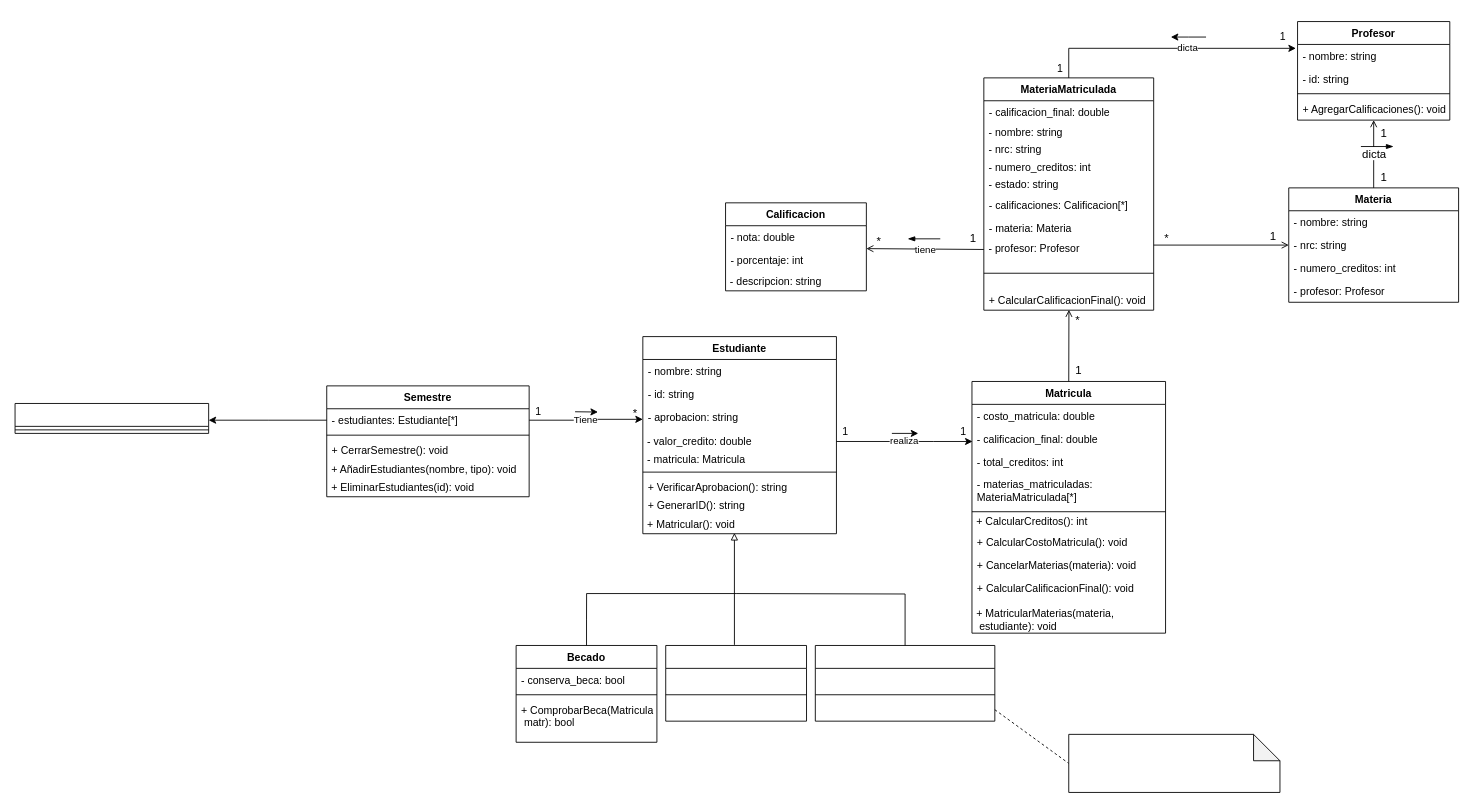
Image size: 1475x808. Some labels were removed from this diagram. Each missing label, with the centre of its shape:
"Intercambio" belongs at [904,683].
"IReporte" belongs at [111,418].
"Override VerificarAprobacion()" belongs at [1174,762].
"Regular" belongs at [736,683].
